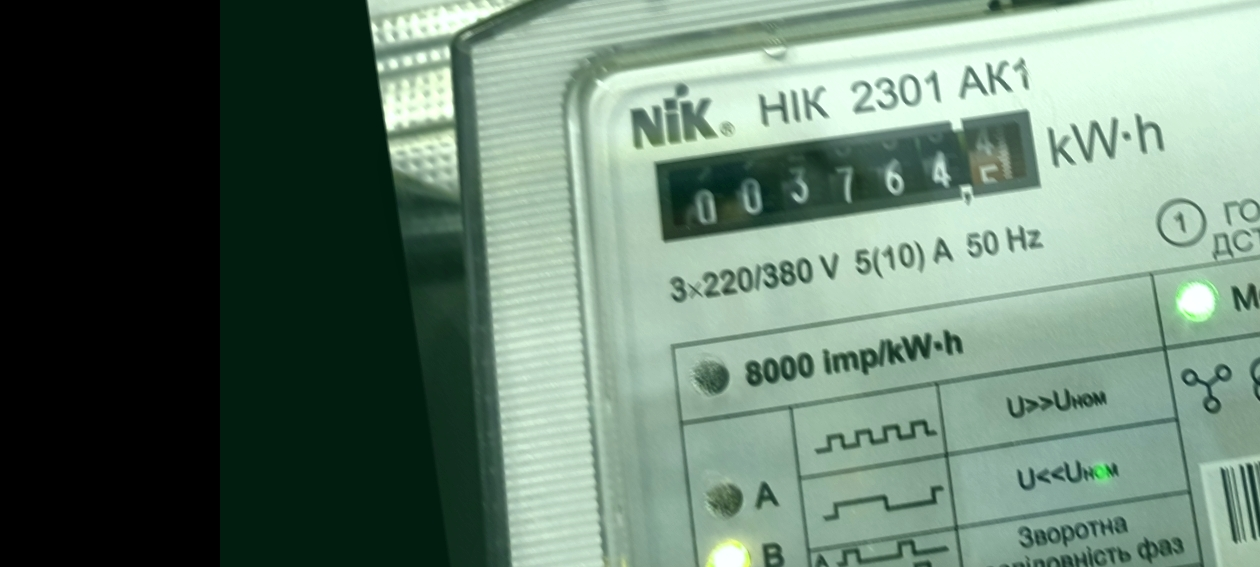0: (692, 185, 721, 226), (738, 174, 766, 216)
3: (785, 163, 813, 206)
4: (929, 148, 954, 189), (972, 123, 998, 158)
5: (977, 161, 1002, 186)
6: (882, 155, 908, 197)
7: (833, 160, 862, 205)
screen: (636, 89, 1058, 258)
